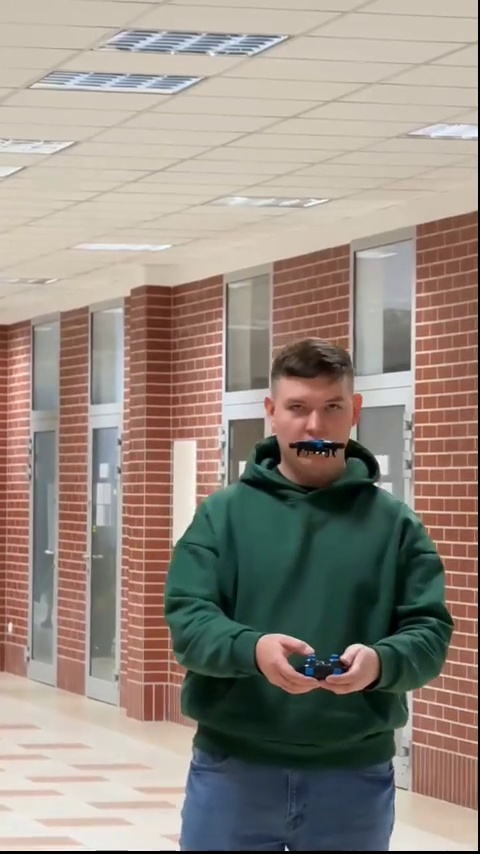drone: (286, 437, 342, 458)
no vest: (170, 333, 447, 843)
